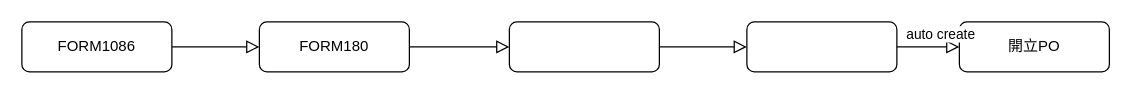
This 1131x94 diagram has some shape labels left out. Here are the shapes that lost their labels. From the top down, the centre of each, then its label:
At (583,46): "FORM106".
At (821,46): "開立PR".
